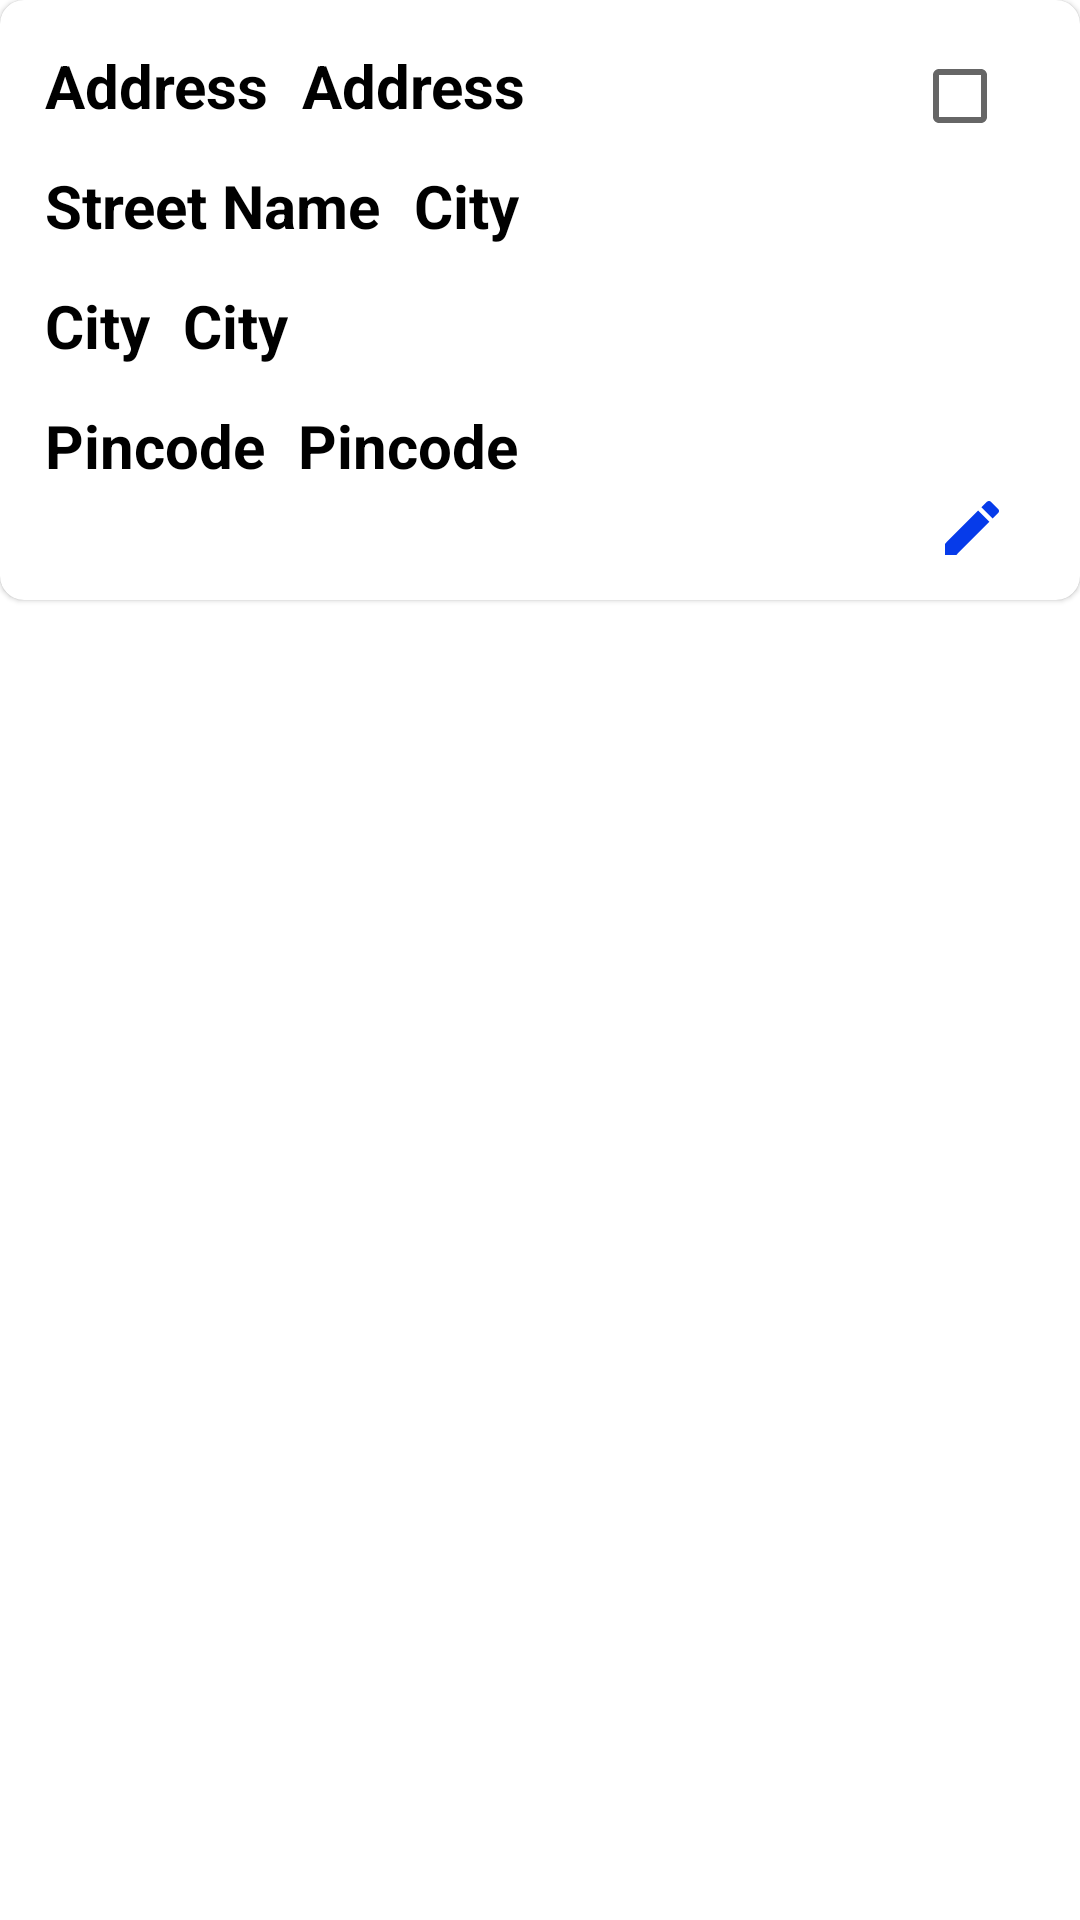

Icon click points for this 1080px x 1920px phone screenshot, format point (x, y):
edit: point (972, 528)
